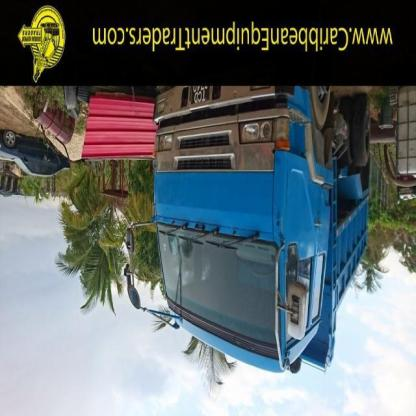truck: (154, 88, 375, 377)
